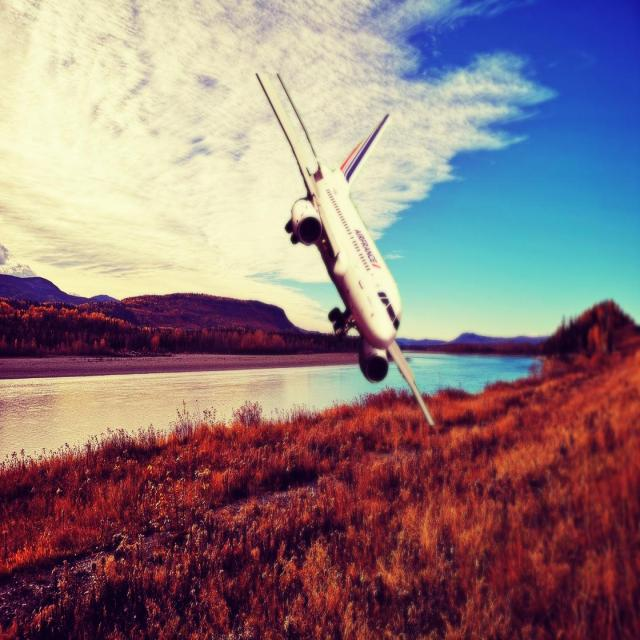airplane: (254, 70, 436, 427)
